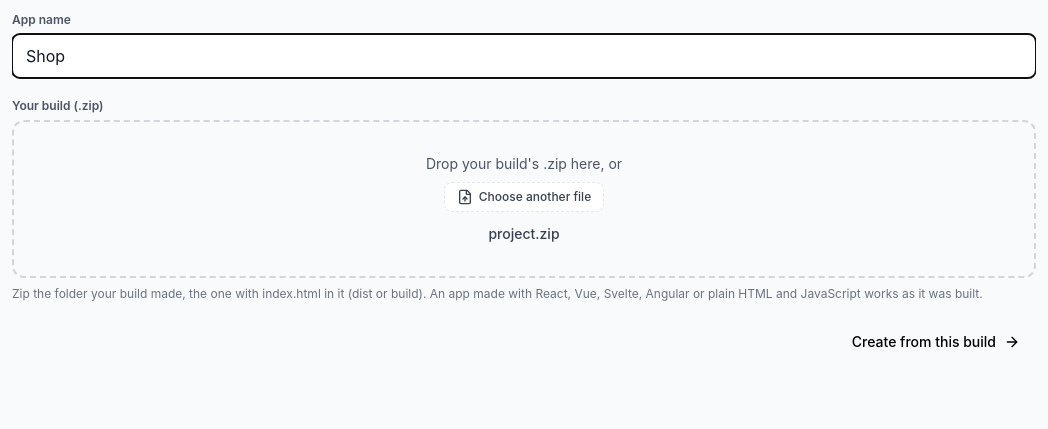
Test: SiteCreateForm › shows why a zip cannot be taken, creates nothing, and takes another
Earlier steps of the test are not shown.
Later steps or results of the test are not shown.
Click the button "Create from this build" at (936, 342), box [836,324,1036,360]
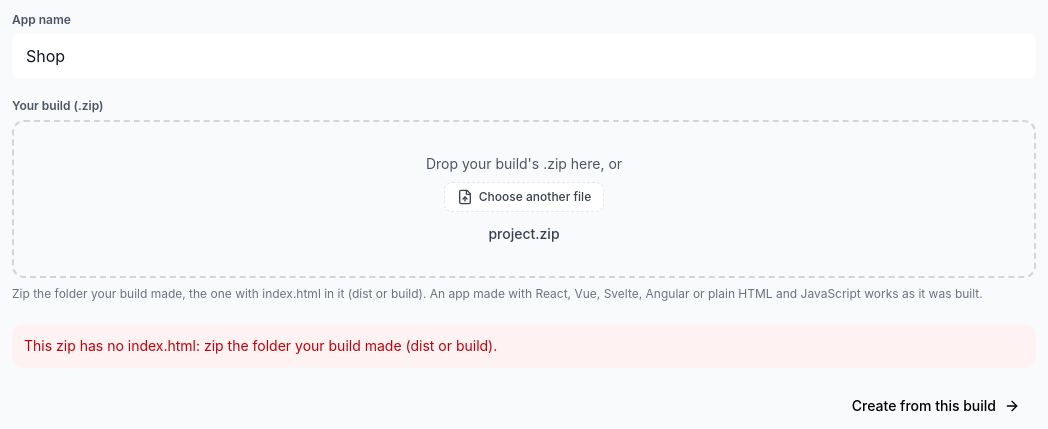
Expected: the message "This zip has no index.html: zip the folder your build made (dist or build)." is shown, [12,324,1036,368]
